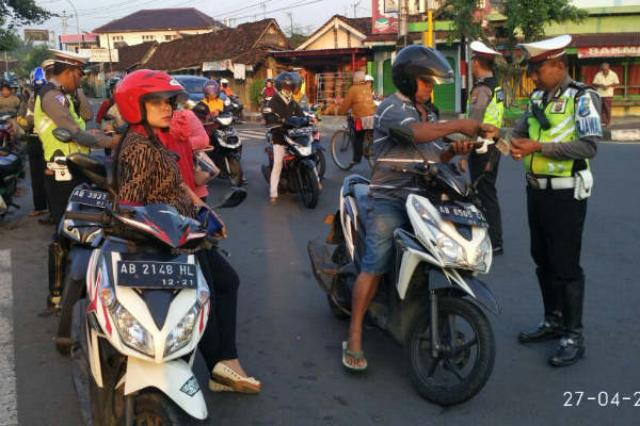helm: (117, 65, 188, 144), (391, 43, 457, 107), (276, 69, 303, 102), (201, 79, 224, 101)
motor: (319, 157, 523, 404), (73, 188, 240, 426), (261, 105, 333, 212), (200, 106, 257, 189)
